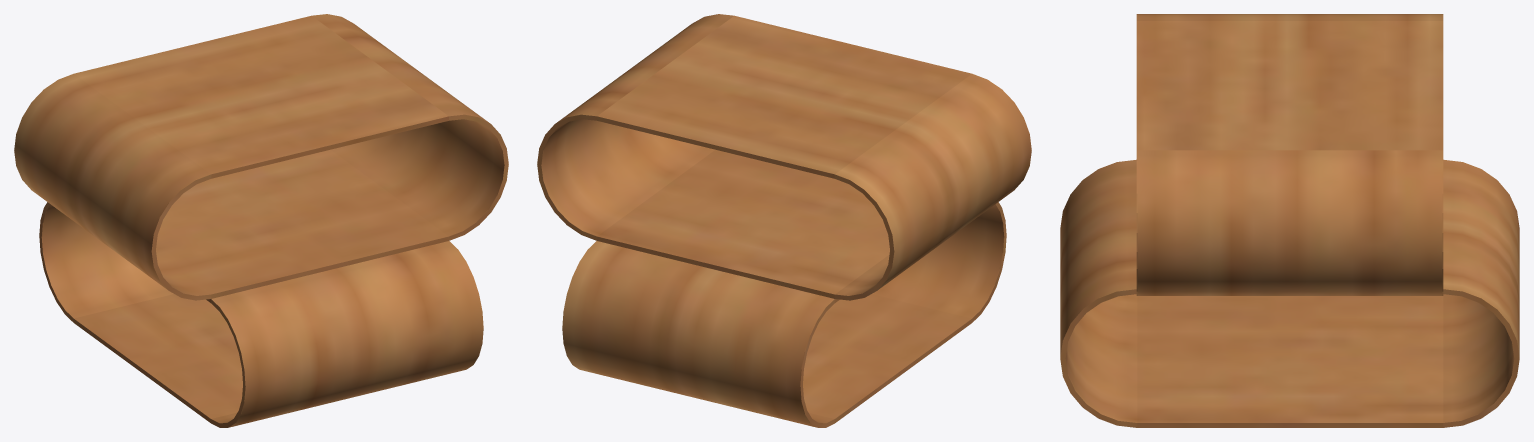
File: table.obj
The picture shows the model from 3 angles, left to right: view 1: azimuth 30°, elevation 25°; view 2: azimuth 150°, elevation 25°; view 3: azimuth 270°, elevation 25°; orthographic projection. The views are drawn at different scales.
Visible parts, largest first — view 1: ehr_coffee_table_top, ehr_coffee_table_base; view 2: ehr_coffee_table_top, ehr_coffee_table_base; view 3: ehr_coffee_table_top, ehr_coffee_table_base.
Boxes of the visible parts, x1=… form: ehr_coffee_table_top: x1=14, y1=14, x2=508, y2=300; ehr_coffee_table_base: x1=39, y1=202, x2=483, y2=427; ehr_coffee_table_top: x1=537, y1=14, x2=1031, y2=300; ehr_coffee_table_base: x1=562, y1=202, x2=1006, y2=427; ehr_coffee_table_top: x1=1136, y1=14, x2=1443, y2=295; ehr_coffee_table_base: x1=1060, y1=159, x2=1519, y2=427.
Size of the model in its own units: 0.7755 by 0.517 by 0.7755.
